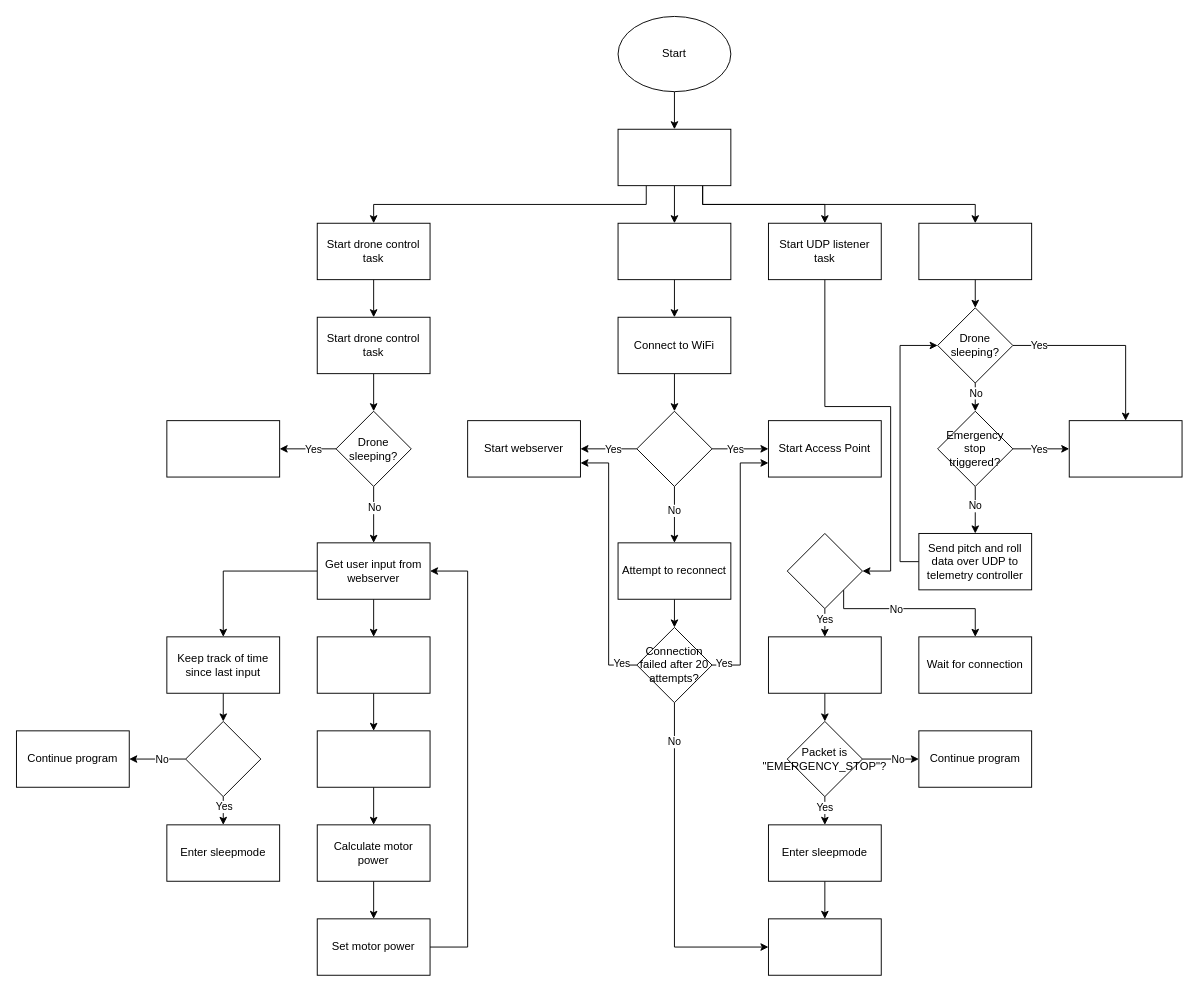
Some shapes in this 1199 by 992 pixel diagram are drawn without their labels. The shapes that lost their labels are listed below. From the top down, each one's box as (x1, y1, x2, y2) in pixels, then its label:
(617, 128, 731, 186): Initialize watchdog
(617, 222, 731, 280): Start WiFi task
(918, 222, 1032, 280): Start telemetry broadcast task
(166, 420, 280, 477): Wait until wake
(636, 410, 712, 486): WiFi connected?
(1068, 420, 1182, 477): Wail until wake
(786, 533, 862, 609): Access Point started?
(316, 636, 430, 693): Get pitch and roll data
(768, 636, 881, 693): Listen to incoming packets from telemetry controller
(185, 721, 261, 797): Time since last input exceeded 60 seconds?
(316, 730, 430, 787): Update PID
(768, 918, 881, 975): Restart ESP
